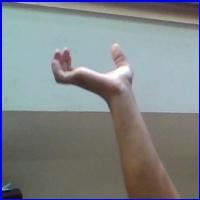B: (49, 41, 139, 96)
